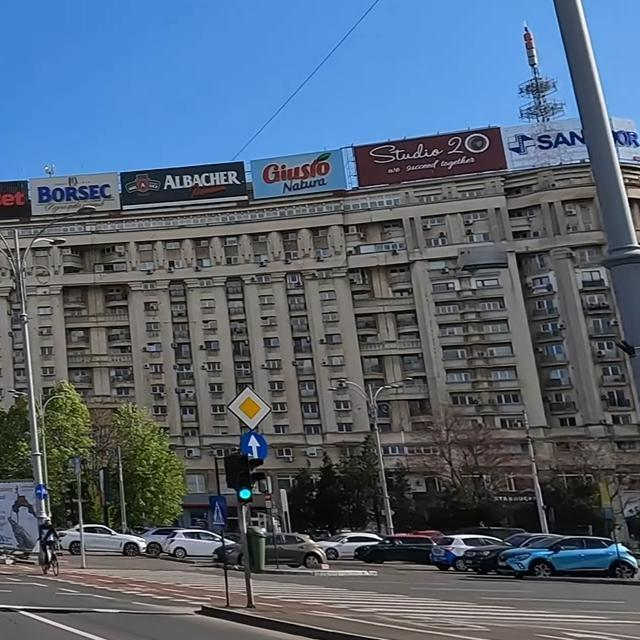info_crosswalk: (208, 494, 228, 527)
